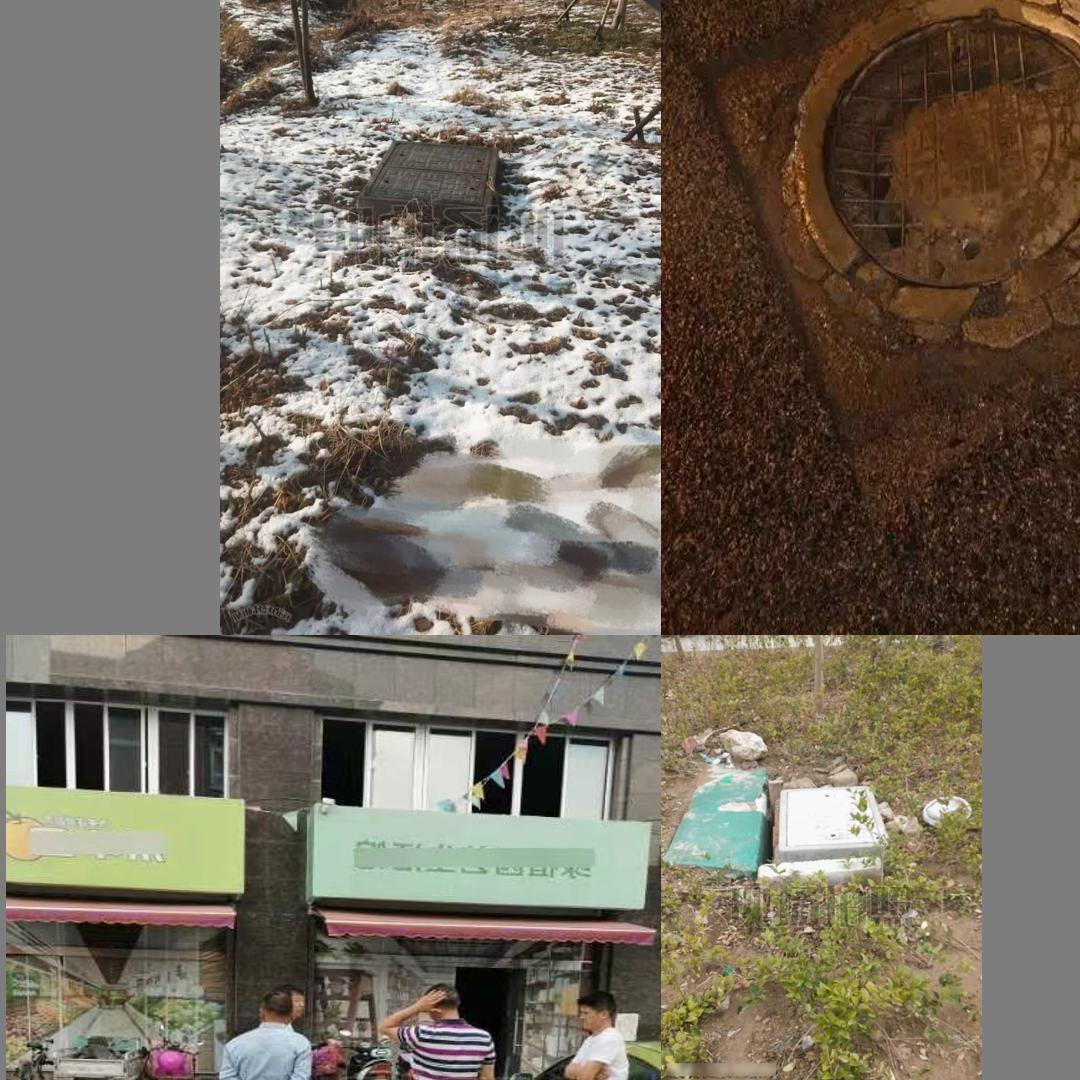circle: (719, 0, 1080, 442), (347, 140, 505, 237), (755, 779, 896, 878)
